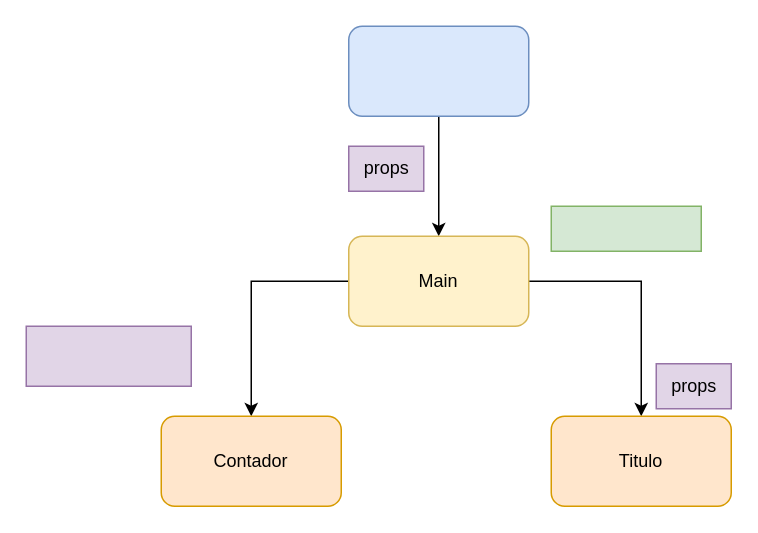
This 758x533 diagram has some shape labels left out. Each missing label, with the centre of its shape:
"App" goes at (438,70).
"props: contador setContador" goes at (108,355).
"state: contador" goes at (625,228).
